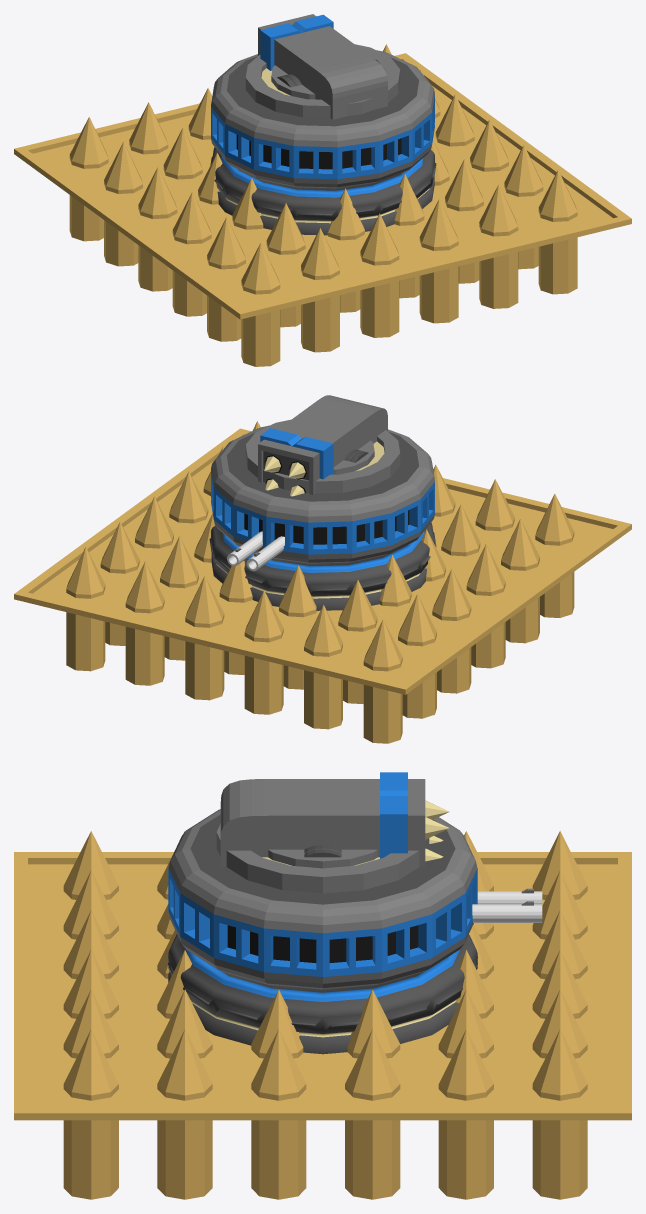
Rendered from Turrets.fbx.
3 renders of one model, top to bottom at view 1: azimuth 30°, elevation 25°; view 2: azimuth 150°, elevation 25°; view 3: azimuth 270°, elevation 25°, orthographic. The views are drawn at different scales.
Parts seen in each view (by area): view 1: Pole, Trap, Head.002, Gun Turret, Head.001, Hat; view 2: Pole, Trap, Head.002, Gun Turret, Head.001, Hat, Neutral 1, Missle; view 3: Trap, Pole, Head.002, Gun Turret, Head.001, Hat, Neutral 1, Missle.
Part boxes in pixels (box(x1,y1,x2,y2)): Pole: box(69, 44, 577, 366); Trap: box(14, 53, 631, 319); Head.002: box(211, 50, 434, 188); Gun Turret: box(210, 147, 436, 235); Head.001: box(258, 14, 387, 119); Hat: box(245, 44, 400, 118); Pole: box(66, 421, 574, 743); Trap: box(14, 428, 631, 694); Head.002: box(211, 425, 434, 563); Gun Turret: box(209, 522, 436, 610); Head.001: box(258, 395, 387, 494); Hat: box(245, 419, 400, 493); Neutral 1: box(227, 531, 284, 571); Missle: box(264, 455, 306, 496); Trap: box(14, 852, 631, 1120); Pole: box(63, 831, 587, 1199); Head.002: box(168, 809, 477, 989); Gun Turret: box(168, 934, 477, 1054); Head.001: box(220, 772, 425, 866); Hat: box(216, 824, 429, 893); Neutral 1: box(472, 891, 542, 922); Missle: box(425, 800, 449, 861).
Bounding box in the file's own units: 4 × 4 × 2.1.
